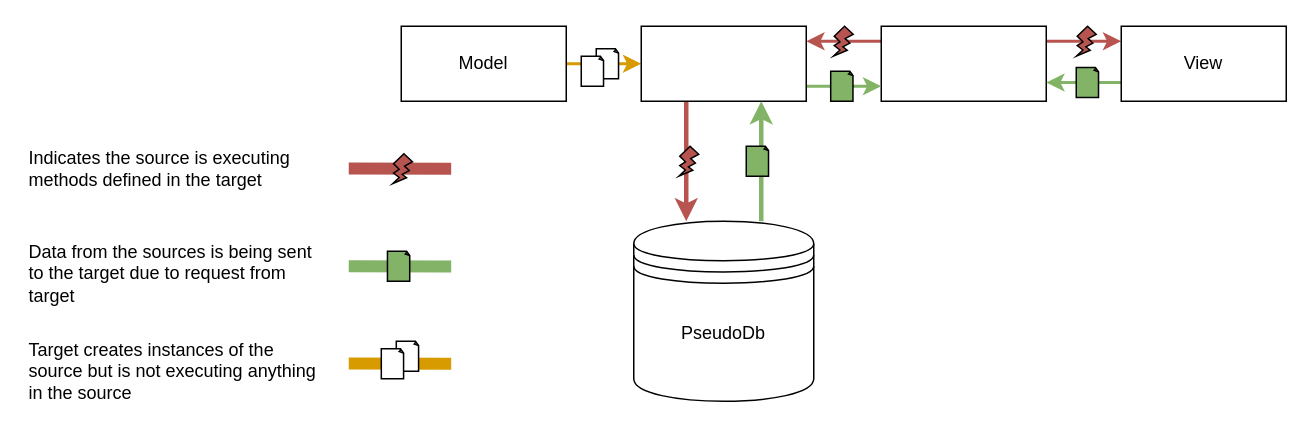
Image size: 1313x443. Some labels were removed from this diagram. The box of each missing label's shape, as (x1, y1, x2, y2) in pixels:
Presenter: (880, 25, 1046, 101)
Service: (640, 25, 806, 101)
